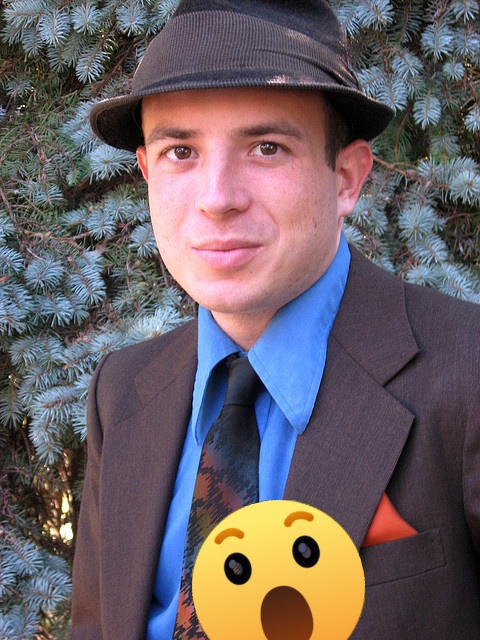wow: (192, 500, 365, 640)
